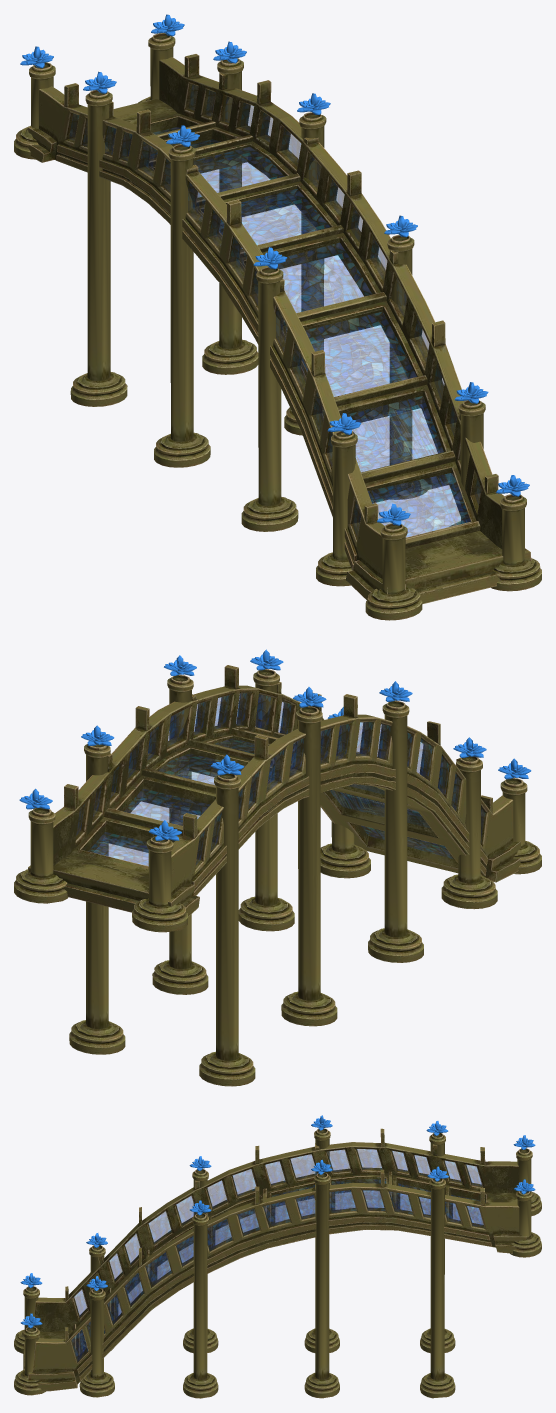
Rendered from bridgeBent_lowPolyCompressed(GlassProbelm).glb.
3 views of the same model, one above another, from view 1: azimuth 30°, elevation 25°; view 2: azimuth 150°, elevation 25°; view 3: azimuth 270°, elevation 25° (orthographic). The views are drawn at different scales.
Visible parts, largest first — view 1: Mesh_168.001; view 2: Mesh_168.001; view 3: Mesh_168.001.
Boxes of the visible parts, box(x1,y1,x2,y2) form: Mesh_168.001: box(14, 14, 541, 620); Mesh_168.001: box(14, 649, 541, 1086); Mesh_168.001: box(14, 1115, 541, 1398).
Size of the model in its own units: 1.35 by 2.34 by 4.87.
Materials: 5 (4 with a texture image).
